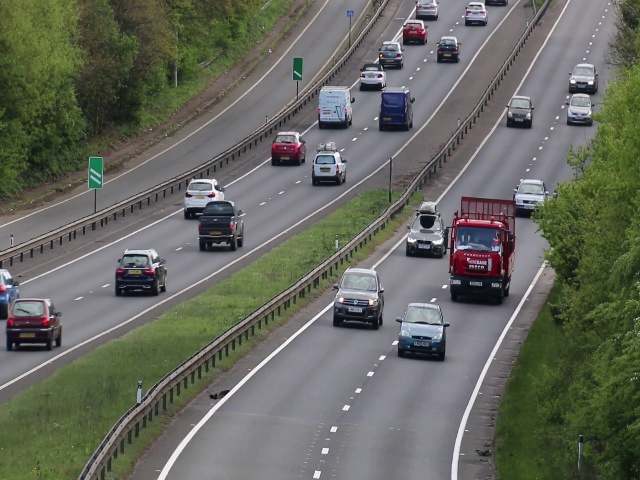car: (446, 233, 512, 299), (4, 297, 62, 354), (330, 266, 383, 326), (112, 246, 169, 296), (398, 301, 447, 358), (198, 200, 247, 249), (405, 215, 445, 259), (317, 85, 356, 130), (378, 87, 415, 132), (311, 151, 350, 187), (269, 130, 306, 166), (183, 176, 225, 202), (505, 94, 535, 130), (513, 177, 547, 206), (568, 92, 594, 125), (378, 40, 405, 71), (569, 62, 597, 91), (358, 63, 387, 90), (400, 19, 429, 45), (464, 1, 488, 28), (437, 36, 461, 63), (413, 1, 439, 20)
